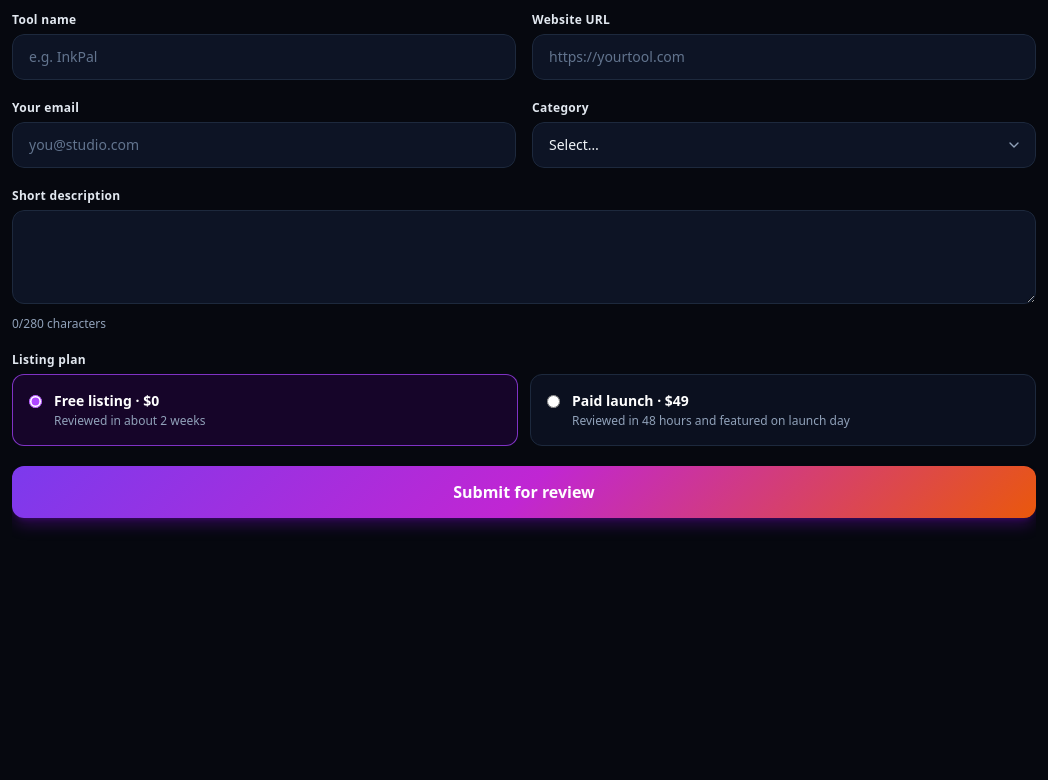
Test: SubmitToolForm › explains when the server can't be reached
Type "Sketchify" into the field labelled "Tool name".
click(264, 57); type("Sketchify")  # box [12,34,516,80]
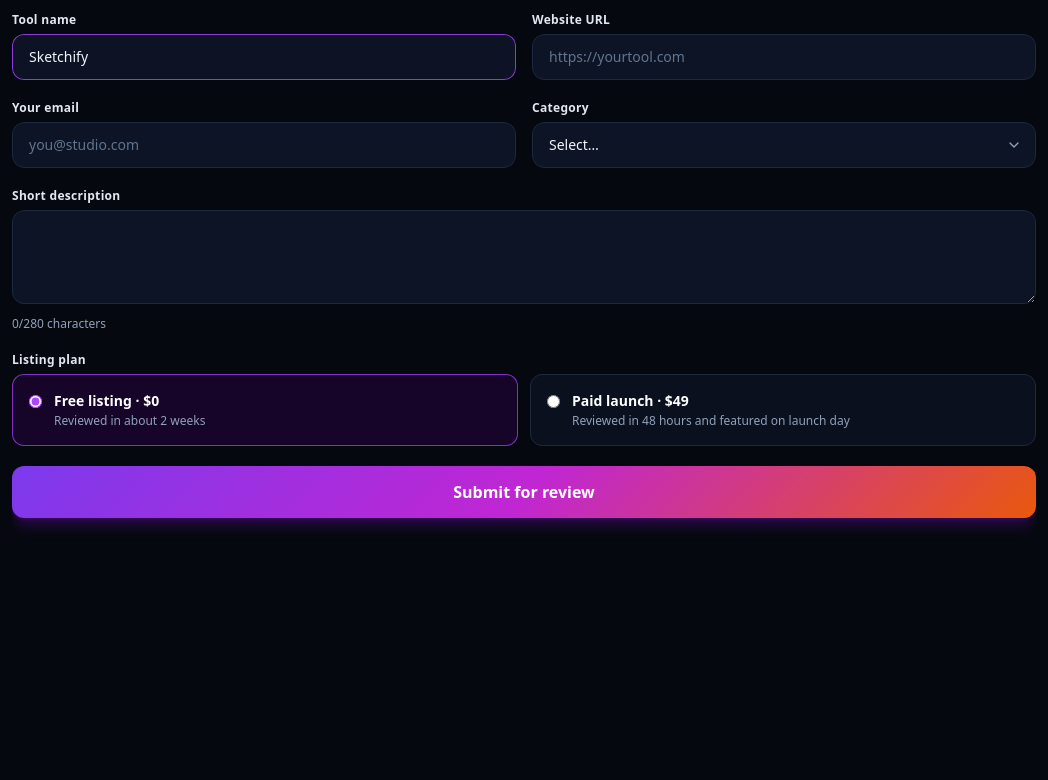
Type "sketchify.example" into the field labelled "Website URL".
click(784, 57); type("sketchify.example")  # box [532,34,1036,80]
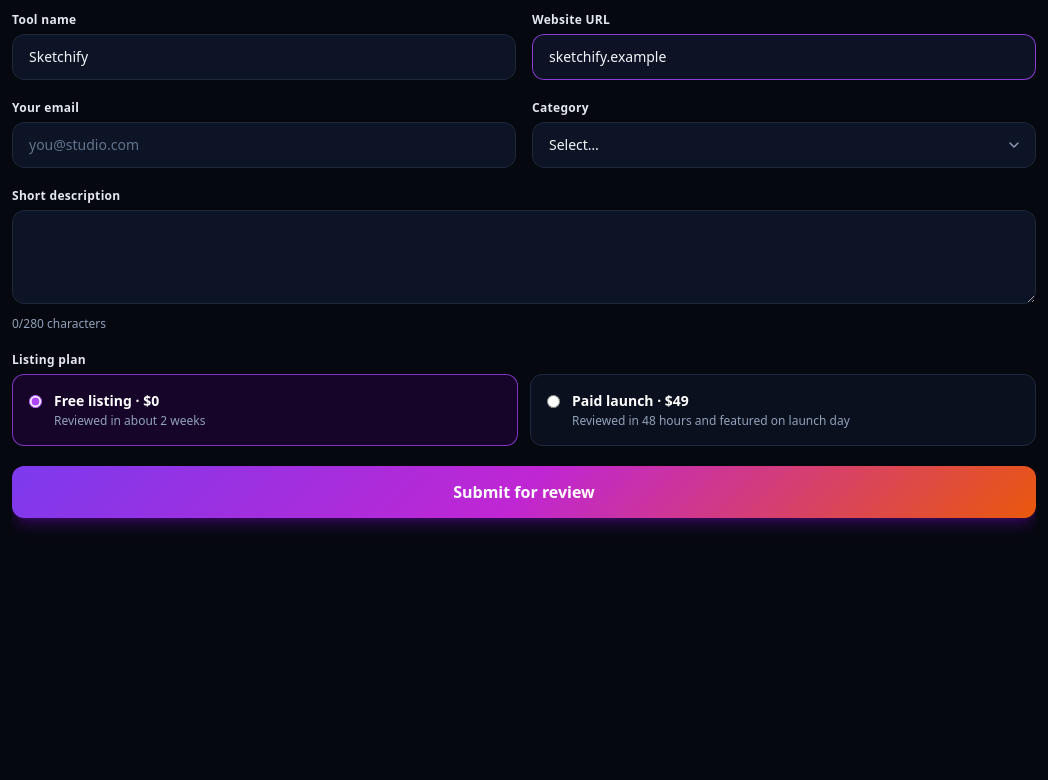
Type "maya@studio.com" into the field labelled "Your email".
click(264, 145); type("maya@studio.com")  # box [12,122,516,168]
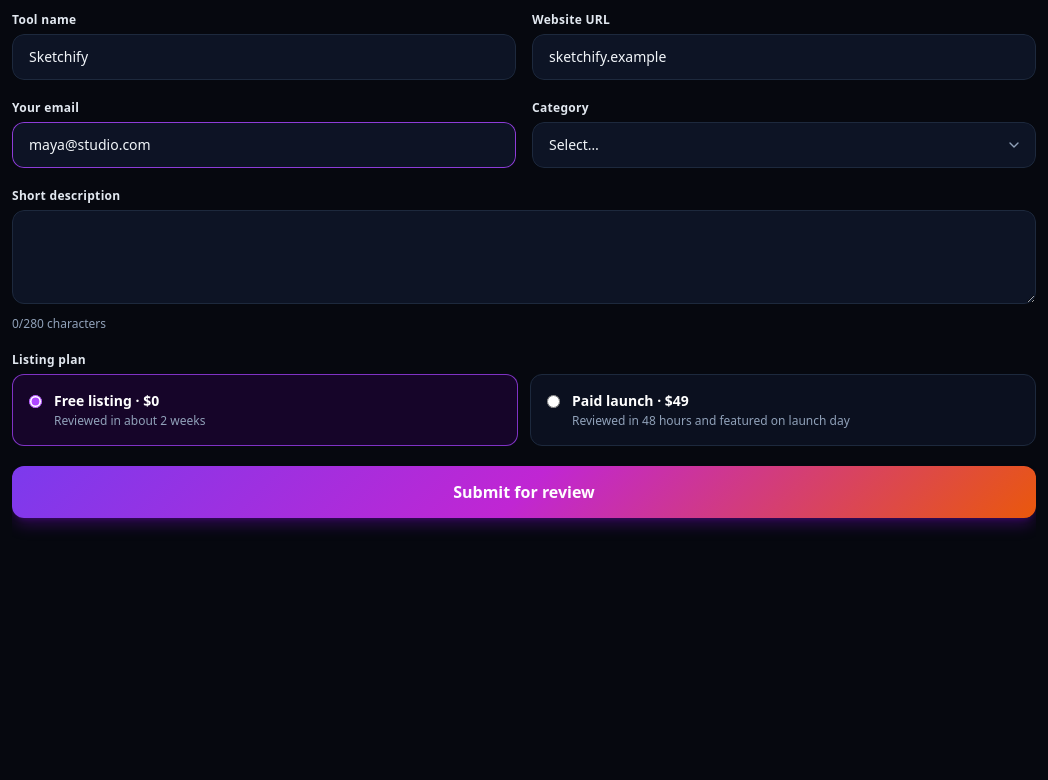
Select "Image" in the dropdown labelled "Category" at (784, 145), box [532,122,1036,168]
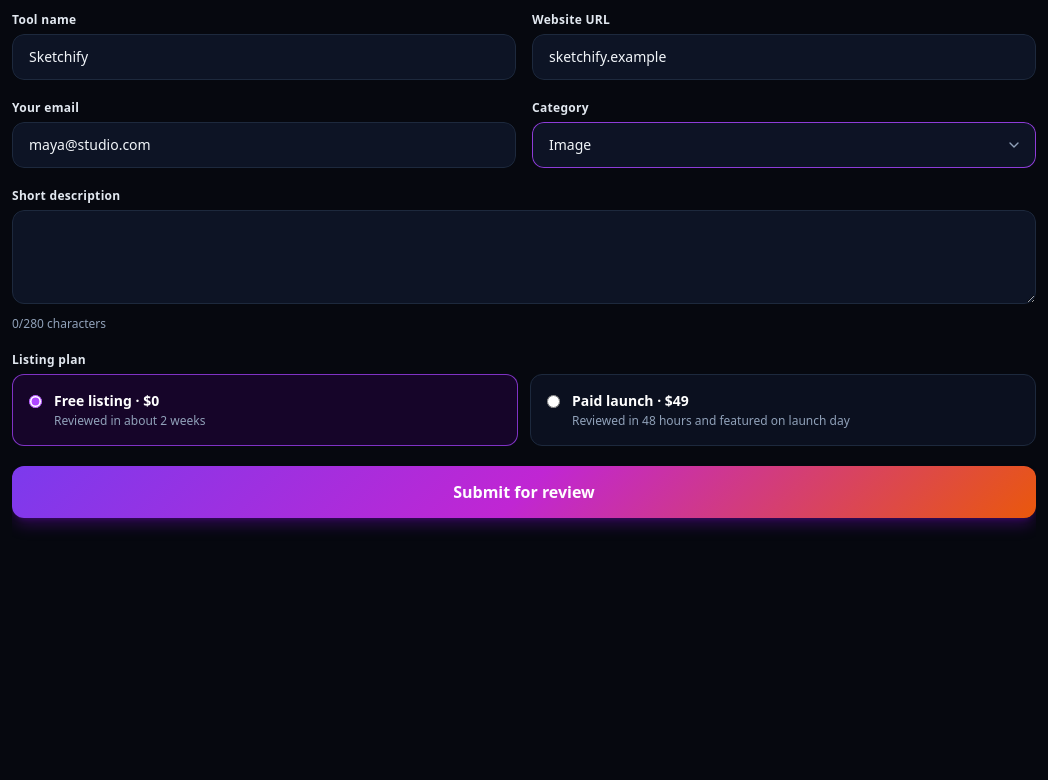
Type "Turns photos into pencil sketches." into the text box labelled "Short description".
click(524, 257); type("Turns photos into pencil sketches.")  # box [12,210,1036,304]
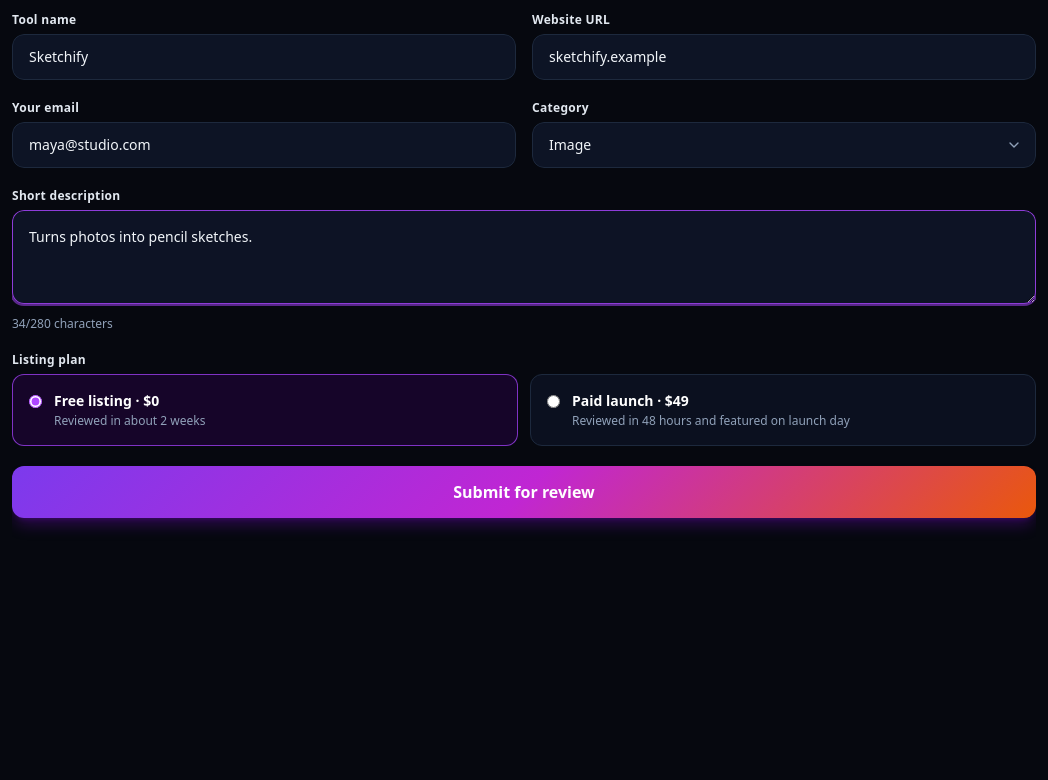
Click the button "Submit for review".
click(524, 492)  # box [12,466,1036,518]
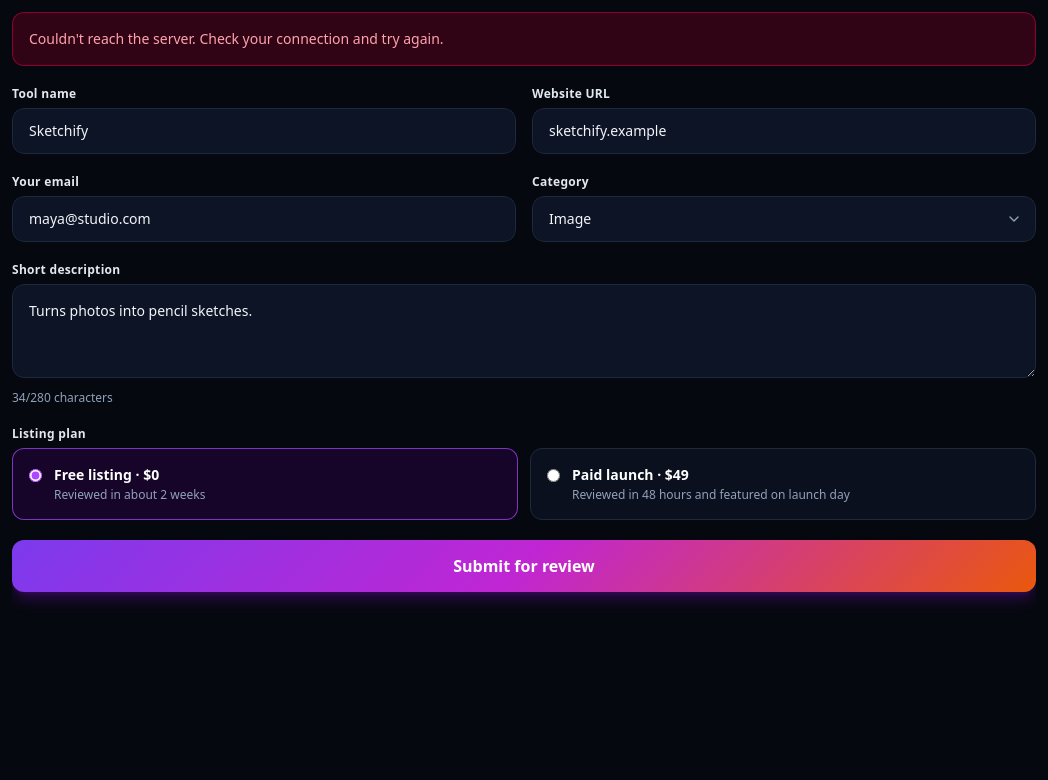
expect the message shows "Couldn't reach the server": met, box [29,29,444,48]
